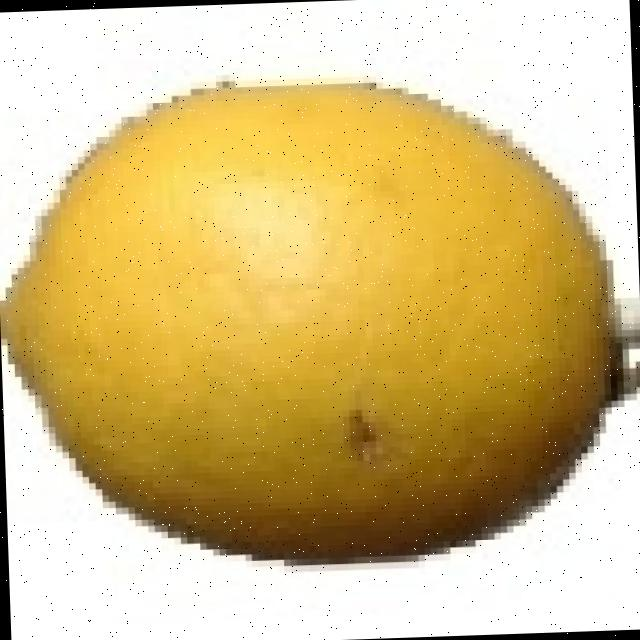lemon: (0, 84, 620, 559)
